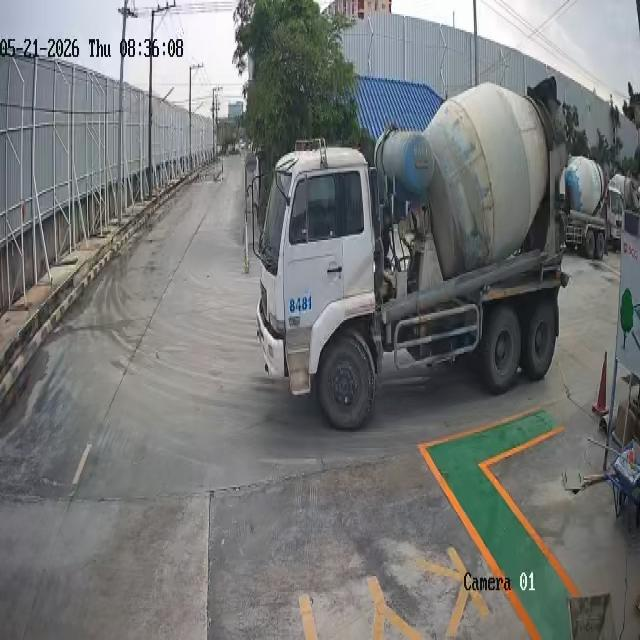cement_mixer_truck: (254, 78, 567, 428), (566, 146, 606, 258), (616, 172, 640, 213), (605, 195, 626, 237)
